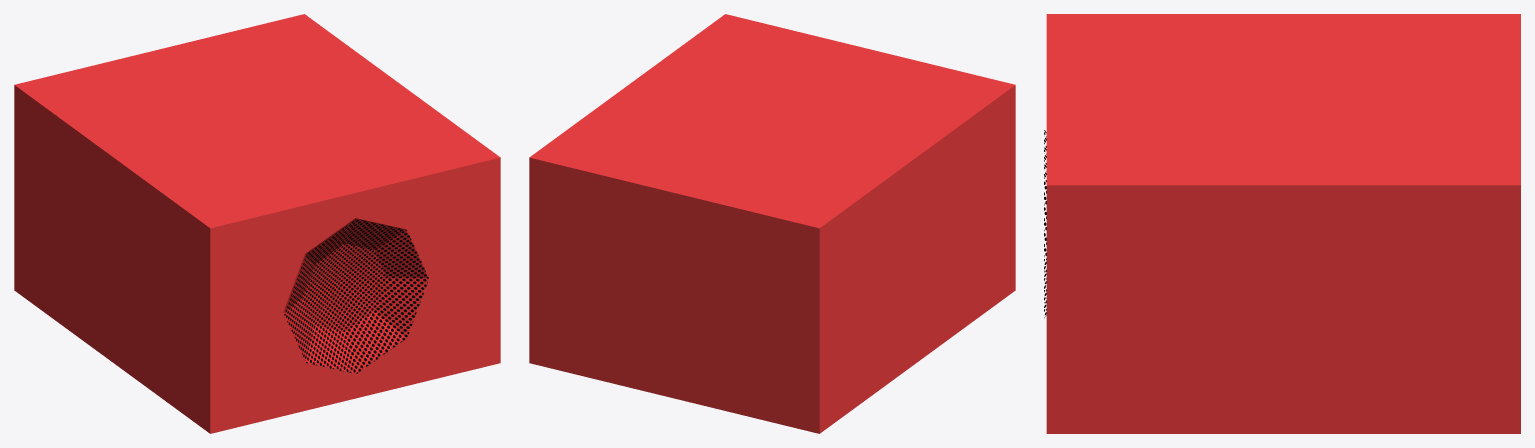
The model's file is Itr_Obj_Speaker1_Top_05.FBX.
3 renders of one model, left to right at view 1: azimuth 30°, elevation 25°; view 2: azimuth 150°, elevation 25°; view 3: azimuth 270°, elevation 25°, orthographic. The views are drawn at different scales.
Visible parts, largest first — view 1: Itr_Obj_Speaker1_Top_05; view 2: Itr_Obj_Speaker1_Top_05; view 3: Itr_Obj_Speaker1_Top_05.
Part boxes in pixels (x1,y1,x2,y2): Itr_Obj_Speaker1_Top_05: [14, 14, 500, 433]; Itr_Obj_Speaker1_Top_05: [529, 14, 1015, 433]; Itr_Obj_Speaker1_Top_05: [1044, 14, 1520, 433].
Bounding box in the file's own units: 9.88 × 6.69 × 11.62.
